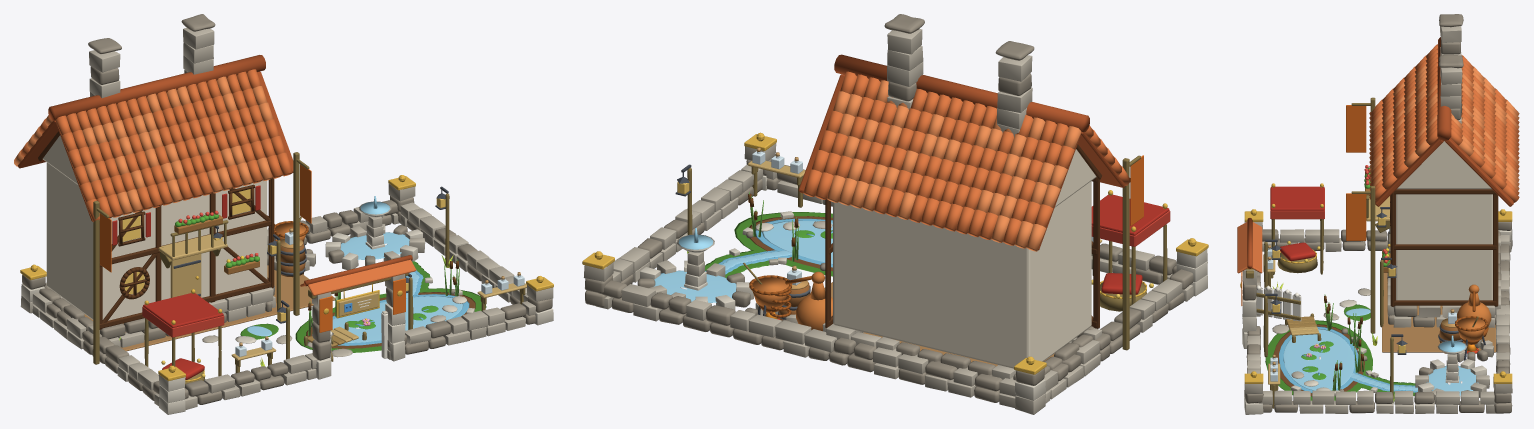
File: geliere5.glb
3 views of the same model, side by side, from view 1: azimuth 30°, elevation 25°; view 2: azimuth 150°, elevation 25°; view 3: azimuth 270°, elevation 25° (orthographic). The views are drawn at different scales.
Visible parts, largest first — view 1: tuile.002, pierre, mur, pierre.001, tuile.001, colombage, pierre.002, eau, tuile, mat, banniere, poteau (+18 smaller); view 2: mur, pierre, tuile.002, pierre.001, tuile.001, eau, tuile, pierre.002, colombage, toit.001, or, dais (+11 smaller); view 3: mur, pierre, tuile.002, pierre.001, eau, tuile.001, colombage, banniere, terre_battue, pierre.002, poteau, dais (+24 smaller).
Part boxes in pixels (x1,y1,x2,y2): tuile.002: (21, 69, 292, 221); pierre: (20, 27, 553, 409); mur: (43, 135, 267, 320); pierre.001: (22, 66, 552, 404); tuile.001: (14, 76, 273, 215); colombage: (38, 131, 274, 329); pierre.002: (21, 229, 553, 414); eau: (247, 201, 463, 342); tuile: (48, 55, 412, 286); mat: (93, 152, 299, 364); banniere: (100, 164, 405, 332); poteau: (144, 193, 449, 376); mur: (833, 149, 1096, 368); pierre: (583, 29, 1193, 414); tuile.002: (803, 71, 1130, 245); pierre.001: (585, 73, 1193, 402); tuile.001: (827, 80, 1081, 251); eau: (653, 220, 832, 302); tuile: (834, 54, 1089, 132); pierre.002: (640, 175, 1207, 400); colombage: (825, 144, 1102, 328); toit.001: (798, 74, 1125, 250); or: (582, 132, 1208, 374); dais: (1091, 194, 1169, 235); mur: (1396, 141, 1492, 300); pierre: (1242, 26, 1512, 413); tuile.002: (1369, 44, 1519, 202); pierre.001: (1242, 39, 1512, 413); eau: (1283, 308, 1478, 395); tuile.001: (1369, 55, 1519, 190); colombage: (1390, 189, 1498, 306); banniere: (1241, 105, 1366, 305); terre_battue: (1382, 250, 1496, 352); pierre.002: (1242, 222, 1512, 414); poteau: (1263, 219, 1393, 399); dais: (1270, 186, 1324, 210).
Size of the model in its own units: 6.07 by 4.12 by 4.19.
